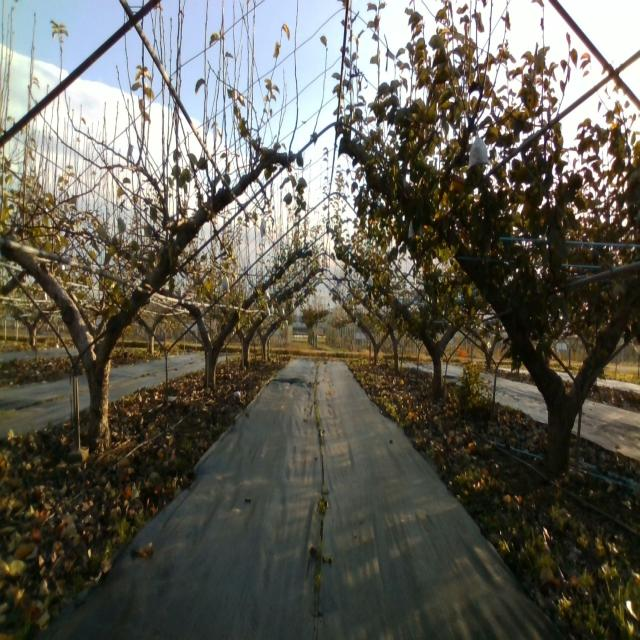pearbags: (466, 130, 491, 172)
